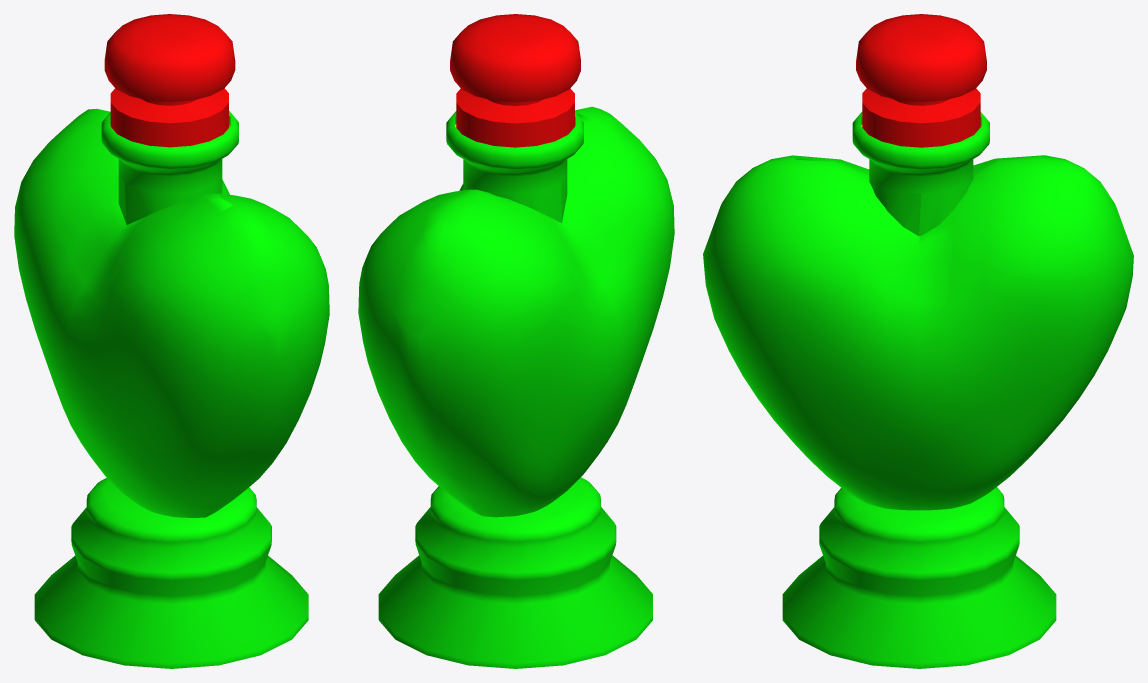
Rendered from Potion_03.FBX.
The picture shows the model from 3 angles, left to right: view 1: azimuth 30°, elevation 25°; view 2: azimuth 150°, elevation 25°; view 3: azimuth 270°, elevation 25°; orthographic projection.
Visible parts, largest first — view 1: Potion_03; view 2: Potion_03; view 3: Potion_03.
Part boxes in pixels (box(x1,y1,x2,y2)): Potion_03: box(14, 14, 329, 668); Potion_03: box(358, 14, 674, 668); Potion_03: box(703, 14, 1133, 668).
Bounding box in the file's own units: 40.08 × 62.13 × 92.22.
